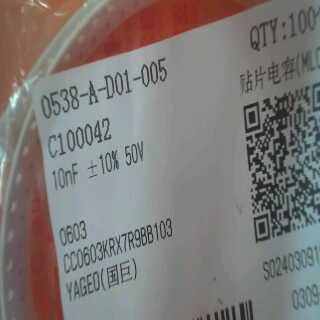10nF: (50, 161, 79, 190)
